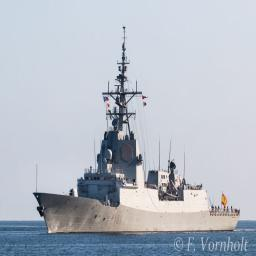Fragata: (34, 23, 241, 239)
